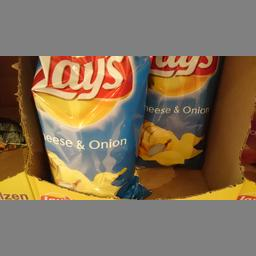chips: (28, 56, 148, 198), (138, 57, 218, 170)
